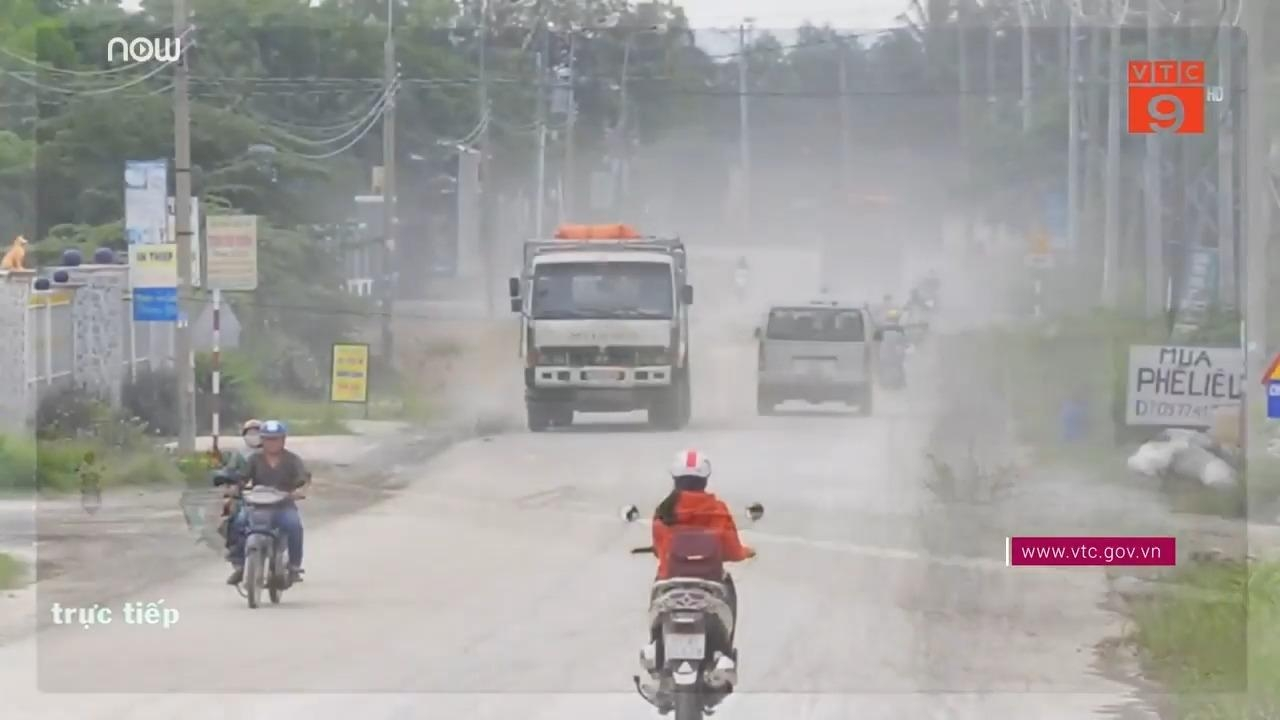car: (752, 297, 872, 420)
motorcycle: (620, 500, 764, 718), (212, 469, 311, 608), (874, 346, 909, 400), (730, 263, 755, 303)
truck: (507, 223, 693, 432), (822, 177, 908, 295)
